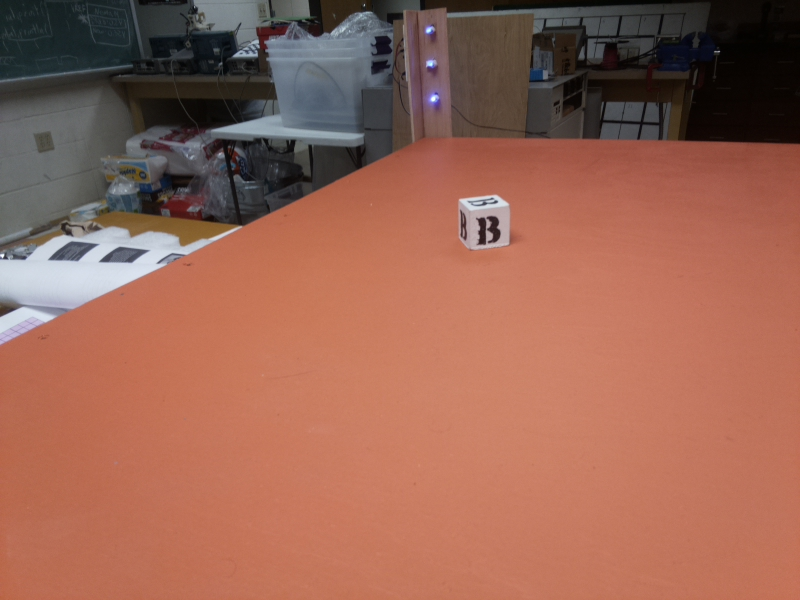blockB: (457, 192, 512, 251)
corner: (399, 4, 459, 143)
